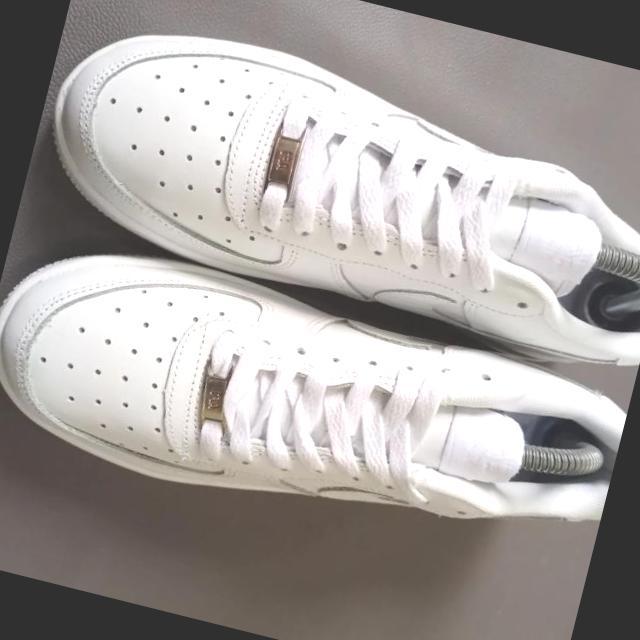nike_fake_airforce: (23, 5, 640, 382), (0, 224, 635, 585)
